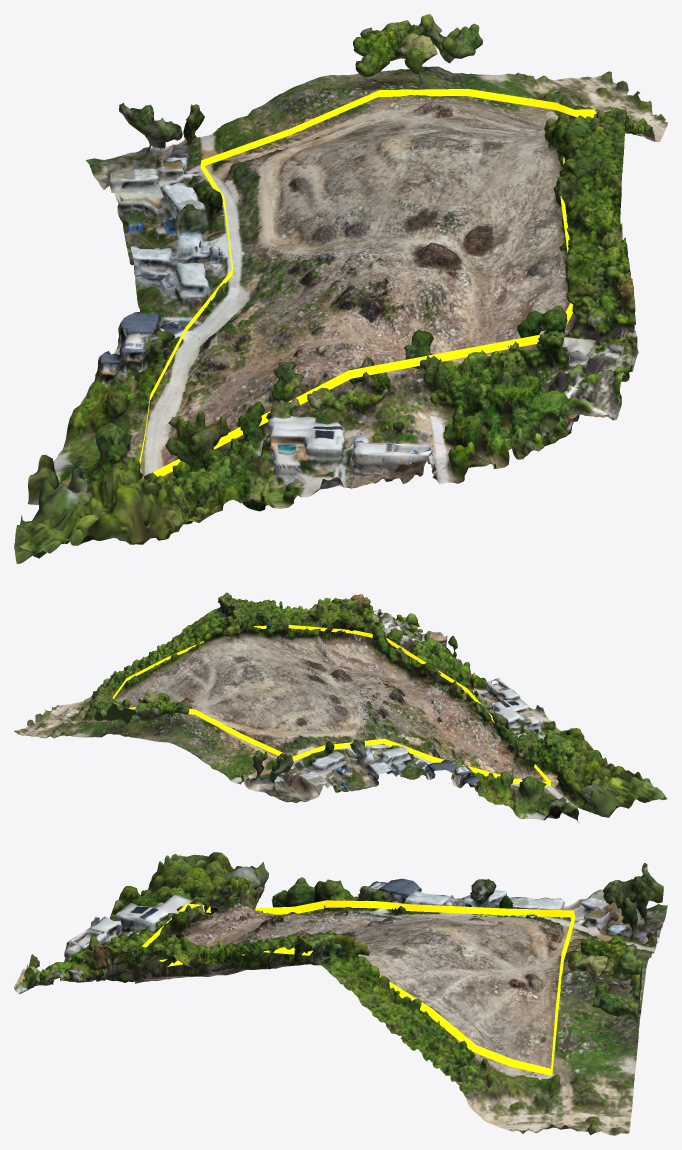
Rendered from drone.glb.
3 renders of one model, top to bottom at view 1: azimuth 30°, elevation 25°; view 2: azimuth 150°, elevation 25°; view 3: azimuth 270°, elevation 25°, orthographic. The views are drawn at different scales.
Visible parts, largest first — view 1: DRONE, BOUNDARY; view 2: DRONE, BOUNDARY; view 3: DRONE, BOUNDARY.
Boxes of the visible parts, <box> form: DRONE: <box>14,14,667,563</box>; BOUNDARY: <box>139,89,596,478</box>; DRONE: <box>14,592,667,822</box>; BOUNDARY: <box>112,625,550,786</box>; DRONE: <box>14,852,667,1135</box>; BOUNDARY: <box>142,900,575,1075</box>.
Bounding box in the file's own units: 289 × 80.1 × 221.
Materials: 2 (1 with a texture image).
